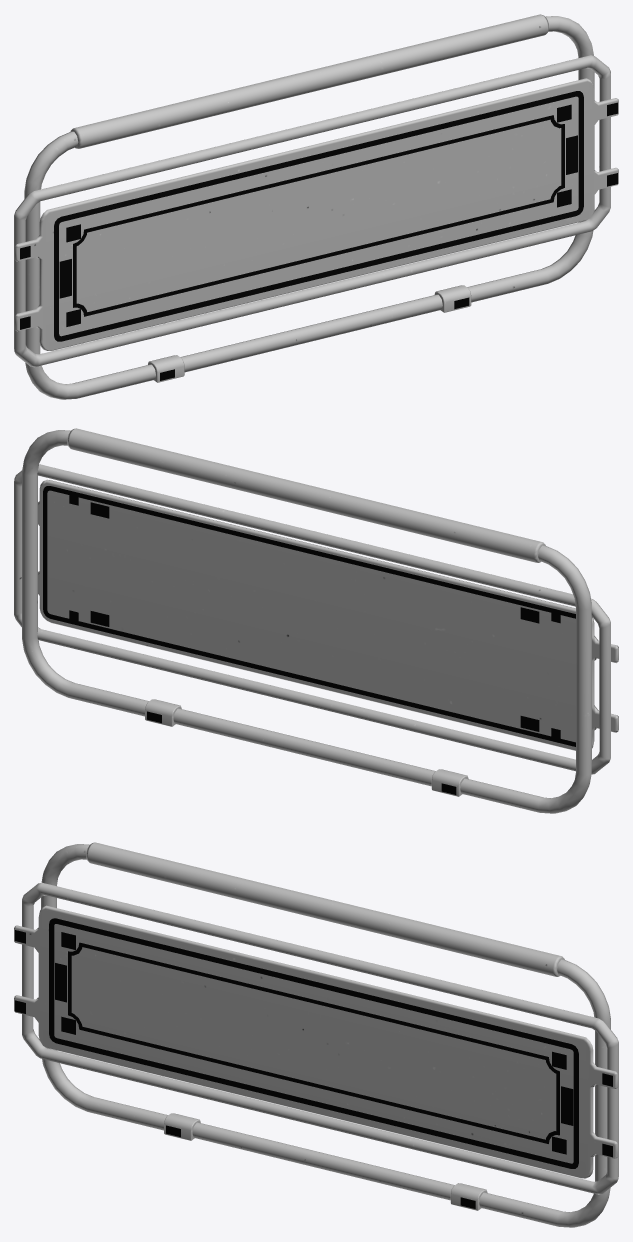
File: SM_Fence_2_Merged.fbx
3 views of the same model, one above another, from view 1: azimuth 30°, elevation 25°; view 2: azimuth 150°, elevation 25°; view 3: azimuth 330°, elevation 25° (orthographic).
Visible parts, largest first — view 1: SM_Fence_2_Merged_LOD0; view 2: SM_Fence_2_Merged_LOD0; view 3: SM_Fence_2_Merged_LOD0.
Part boxes in pixels (x1,y1,x2,y2): SM_Fence_2_Merged_LOD0: (14,14,618,399); SM_Fence_2_Merged_LOD0: (14,428,618,813); SM_Fence_2_Merged_LOD0: (14,842,618,1227).
Bounding box in the file's own units: 251 × 11.61 × 107.
